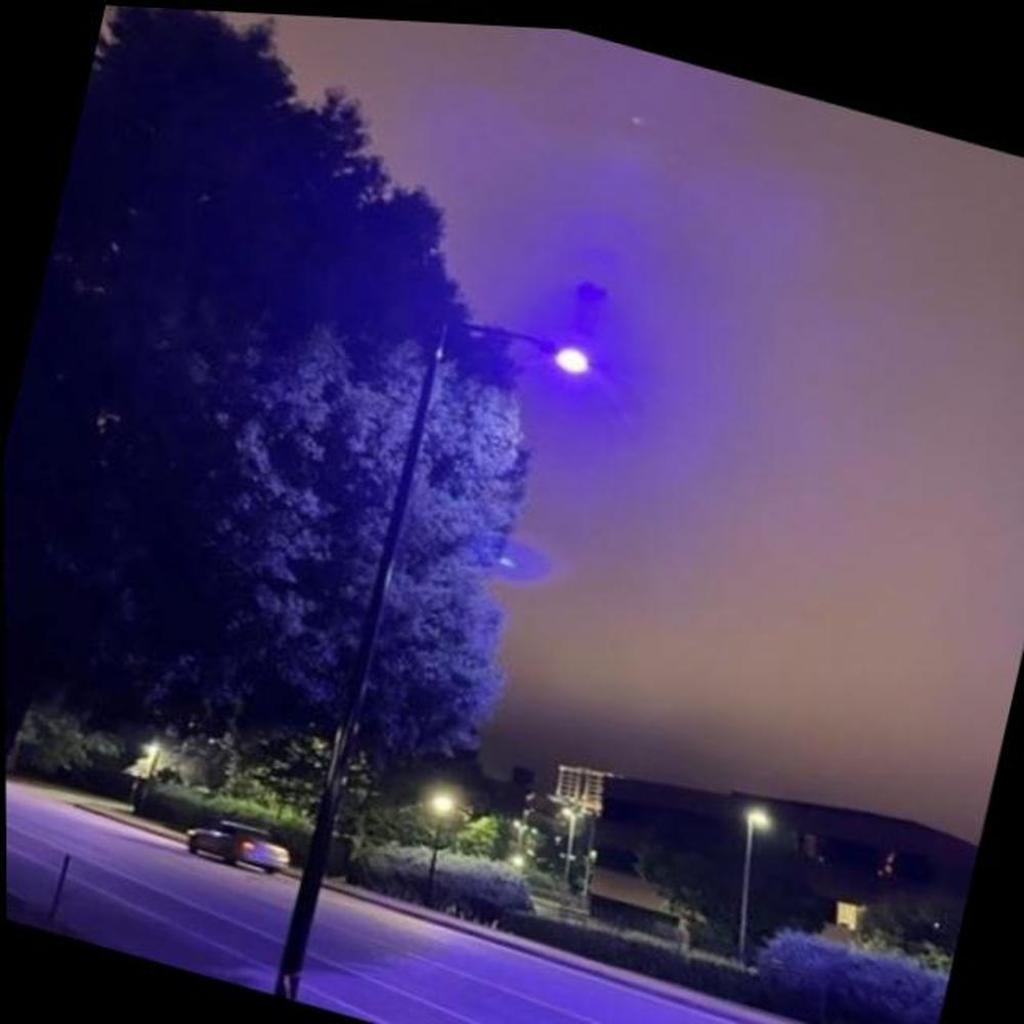shelf: (269, 287, 617, 1024)
